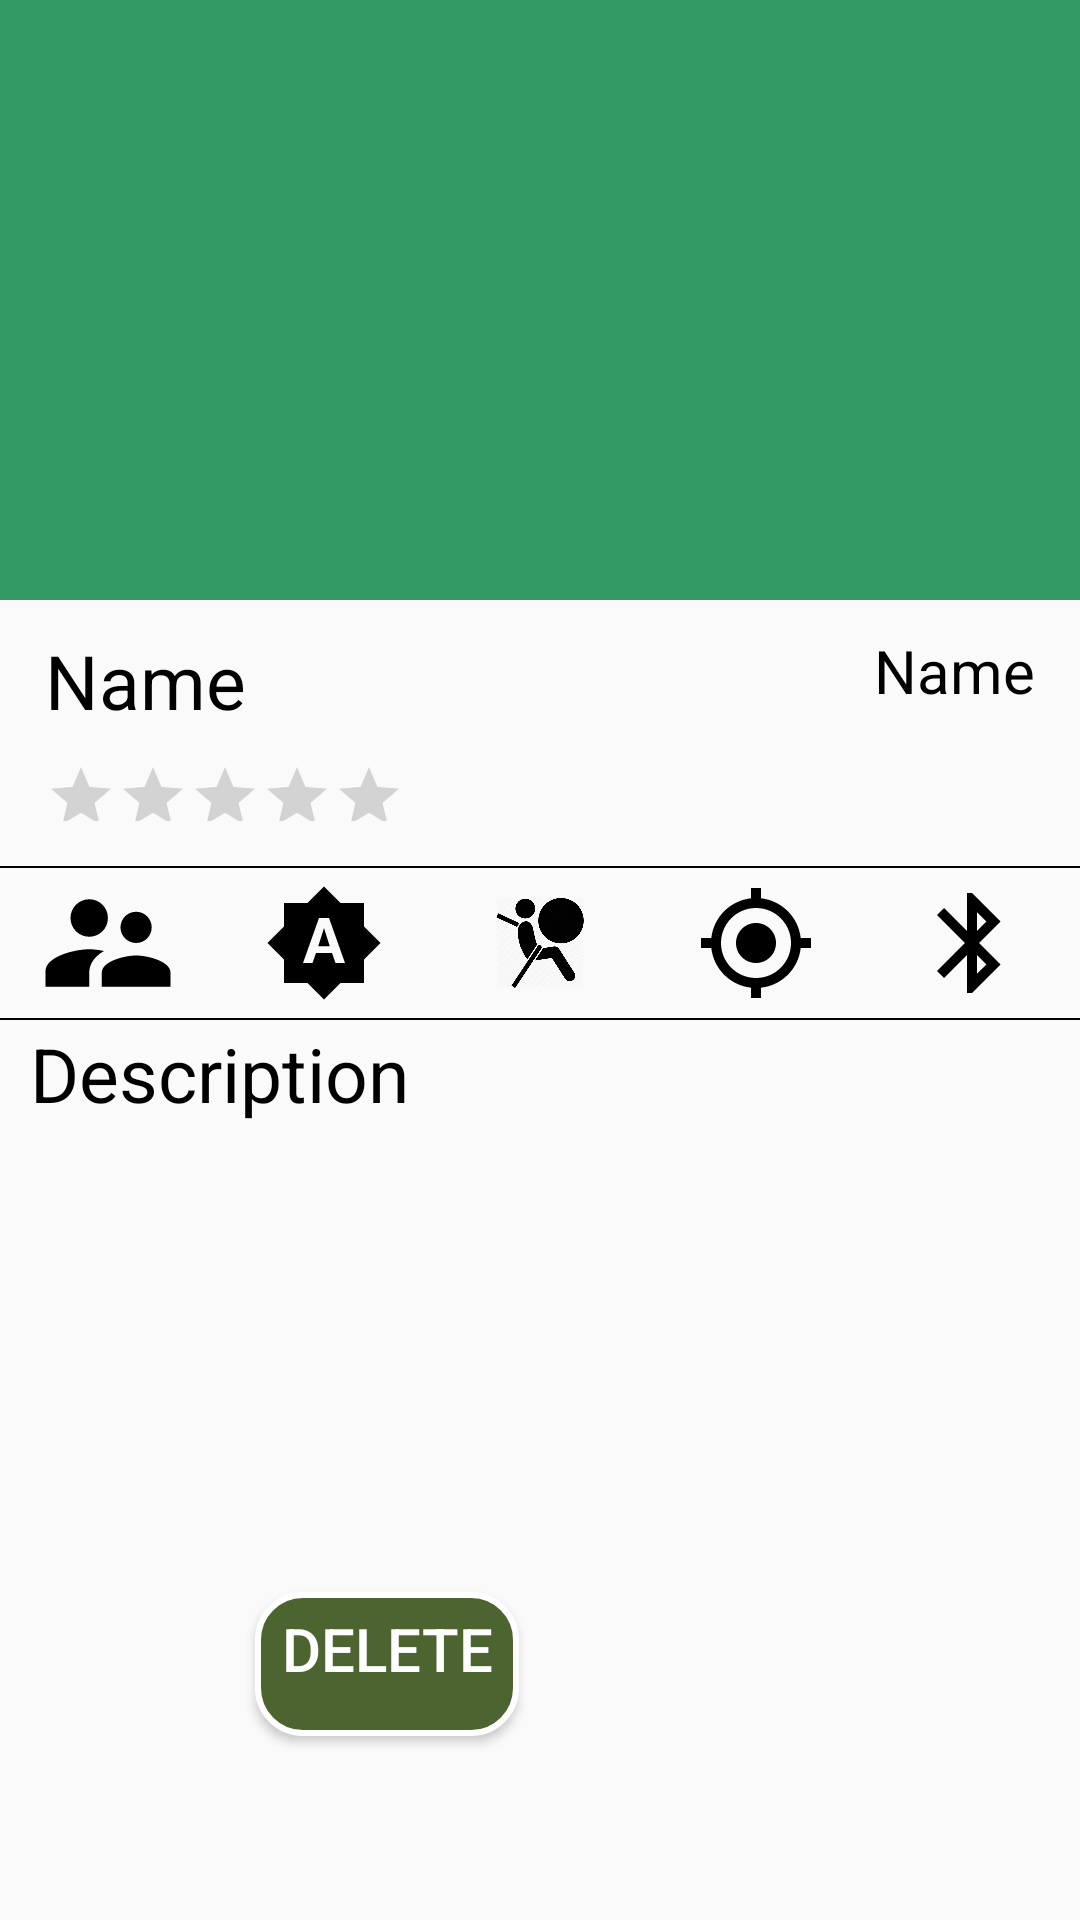

Screen size 1080px×1920px. Icon name, then its center in pixels as point (x, y):
airbag: point (540, 943)
auto: point (324, 943)
person: point (108, 943)
